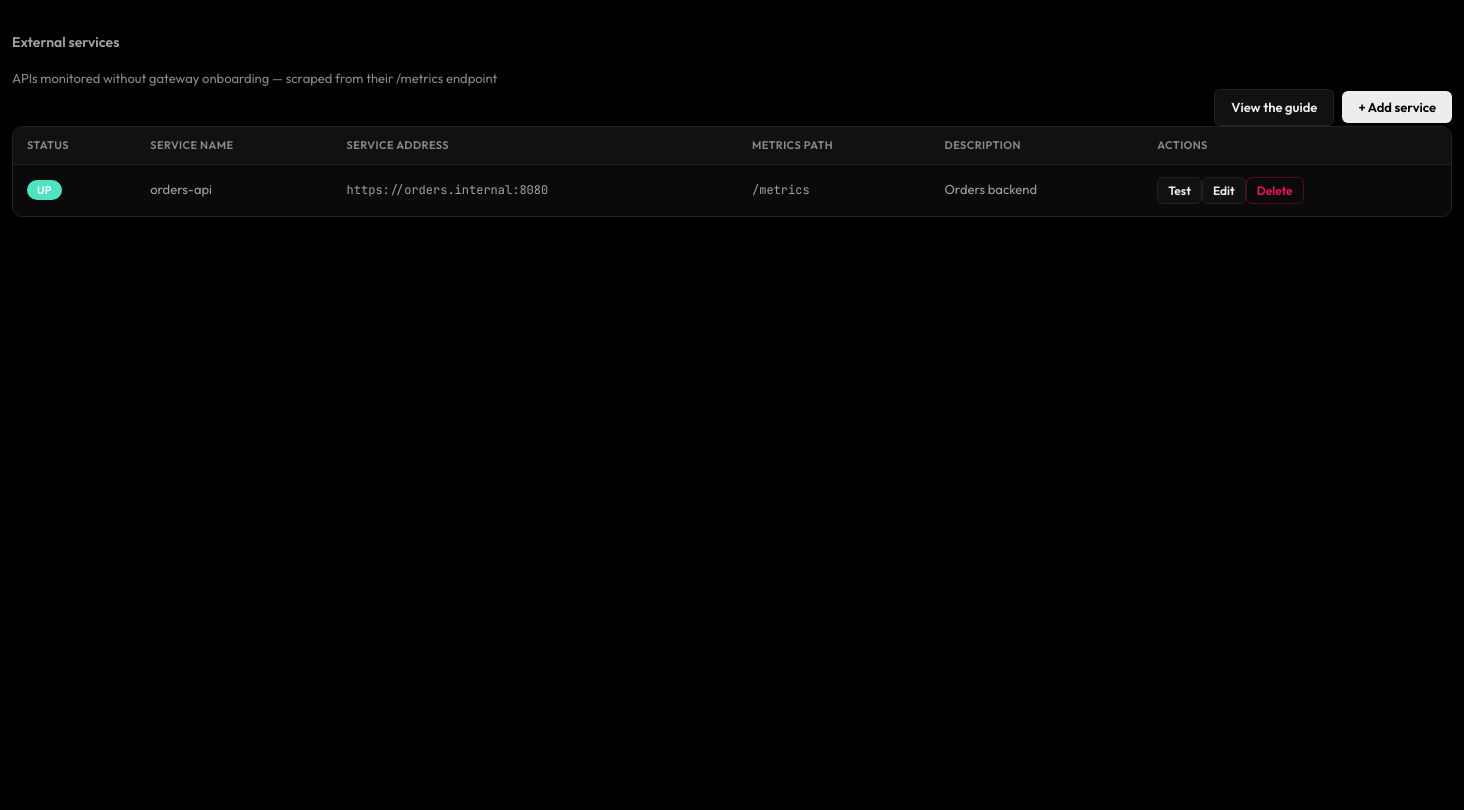
ExternalServicesSection › honors delete confirmation and surfaces delete failures
The image size is (1464, 810).
Expected: the text "orders-api" is shown, left=136, top=164, right=333, bottom=216
Click the button with aria-label "Delete service orders-api": (1275, 190) left=1246, top=176, right=1304, bottom=204
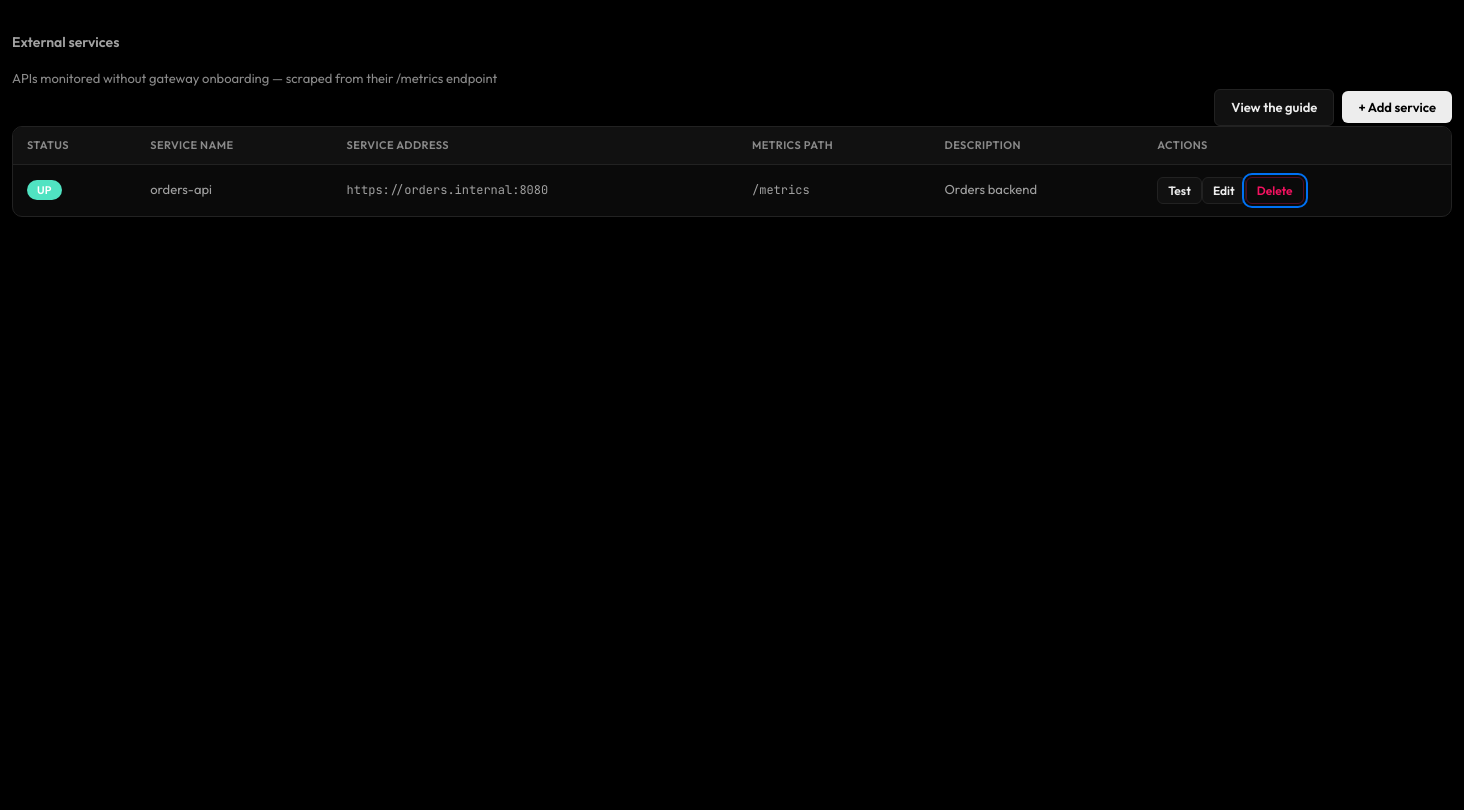
Click the button with aria-label "Delete service orders-api": (1275, 190) left=1246, top=176, right=1304, bottom=204
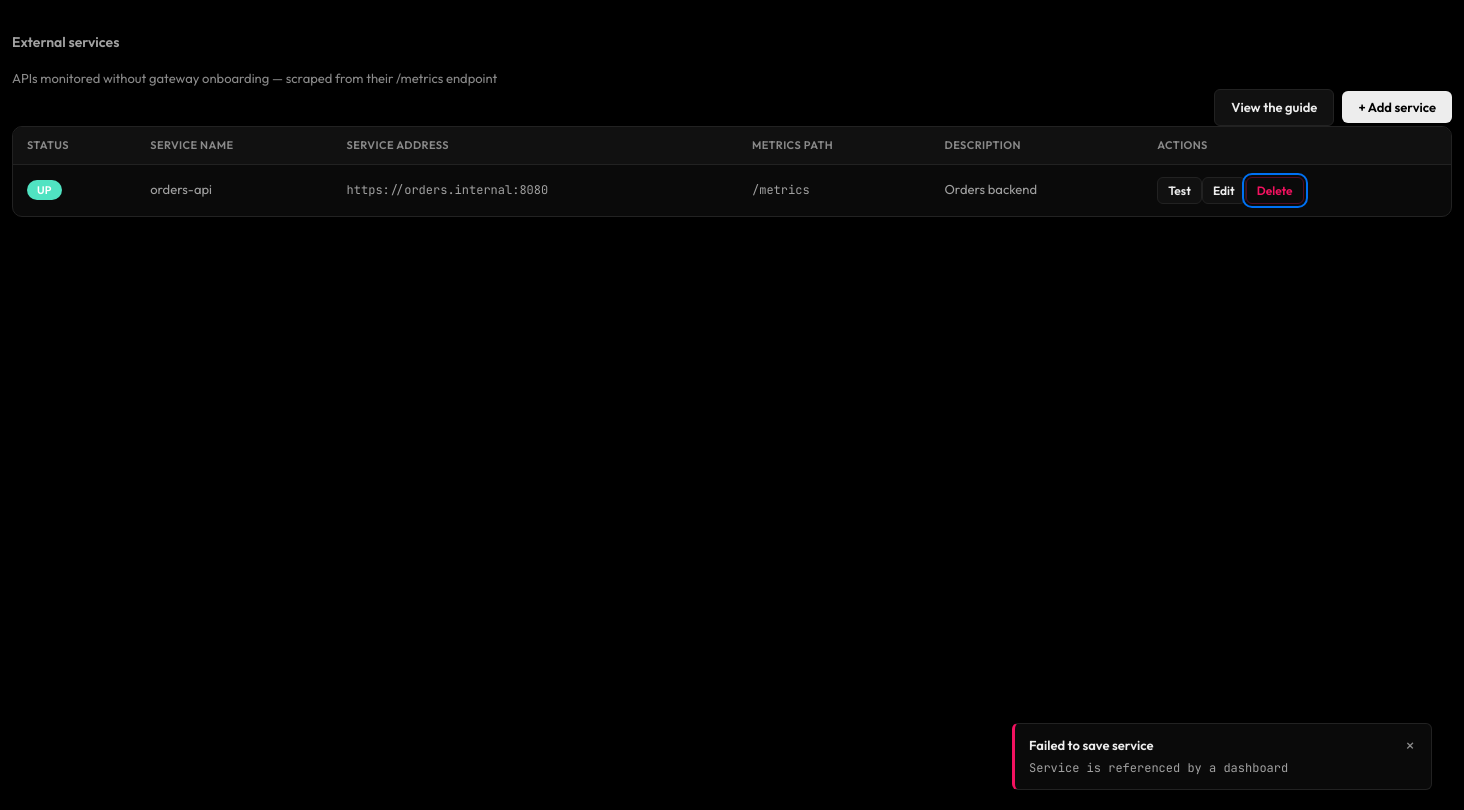
Expected: the text "Service is referenced by a dashboard" is shown, left=1029, top=760, right=1288, bottom=776
